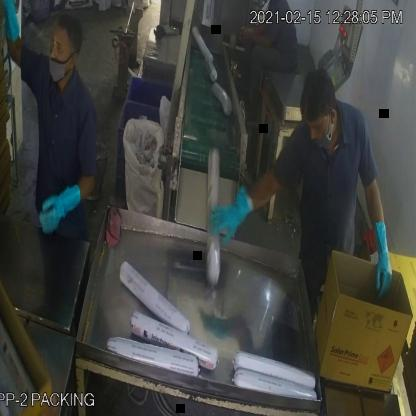glove: (192, 175, 268, 261), (23, 176, 94, 241), (361, 206, 402, 311), (0, 0, 31, 72)
no_glove: (236, 22, 274, 60)
